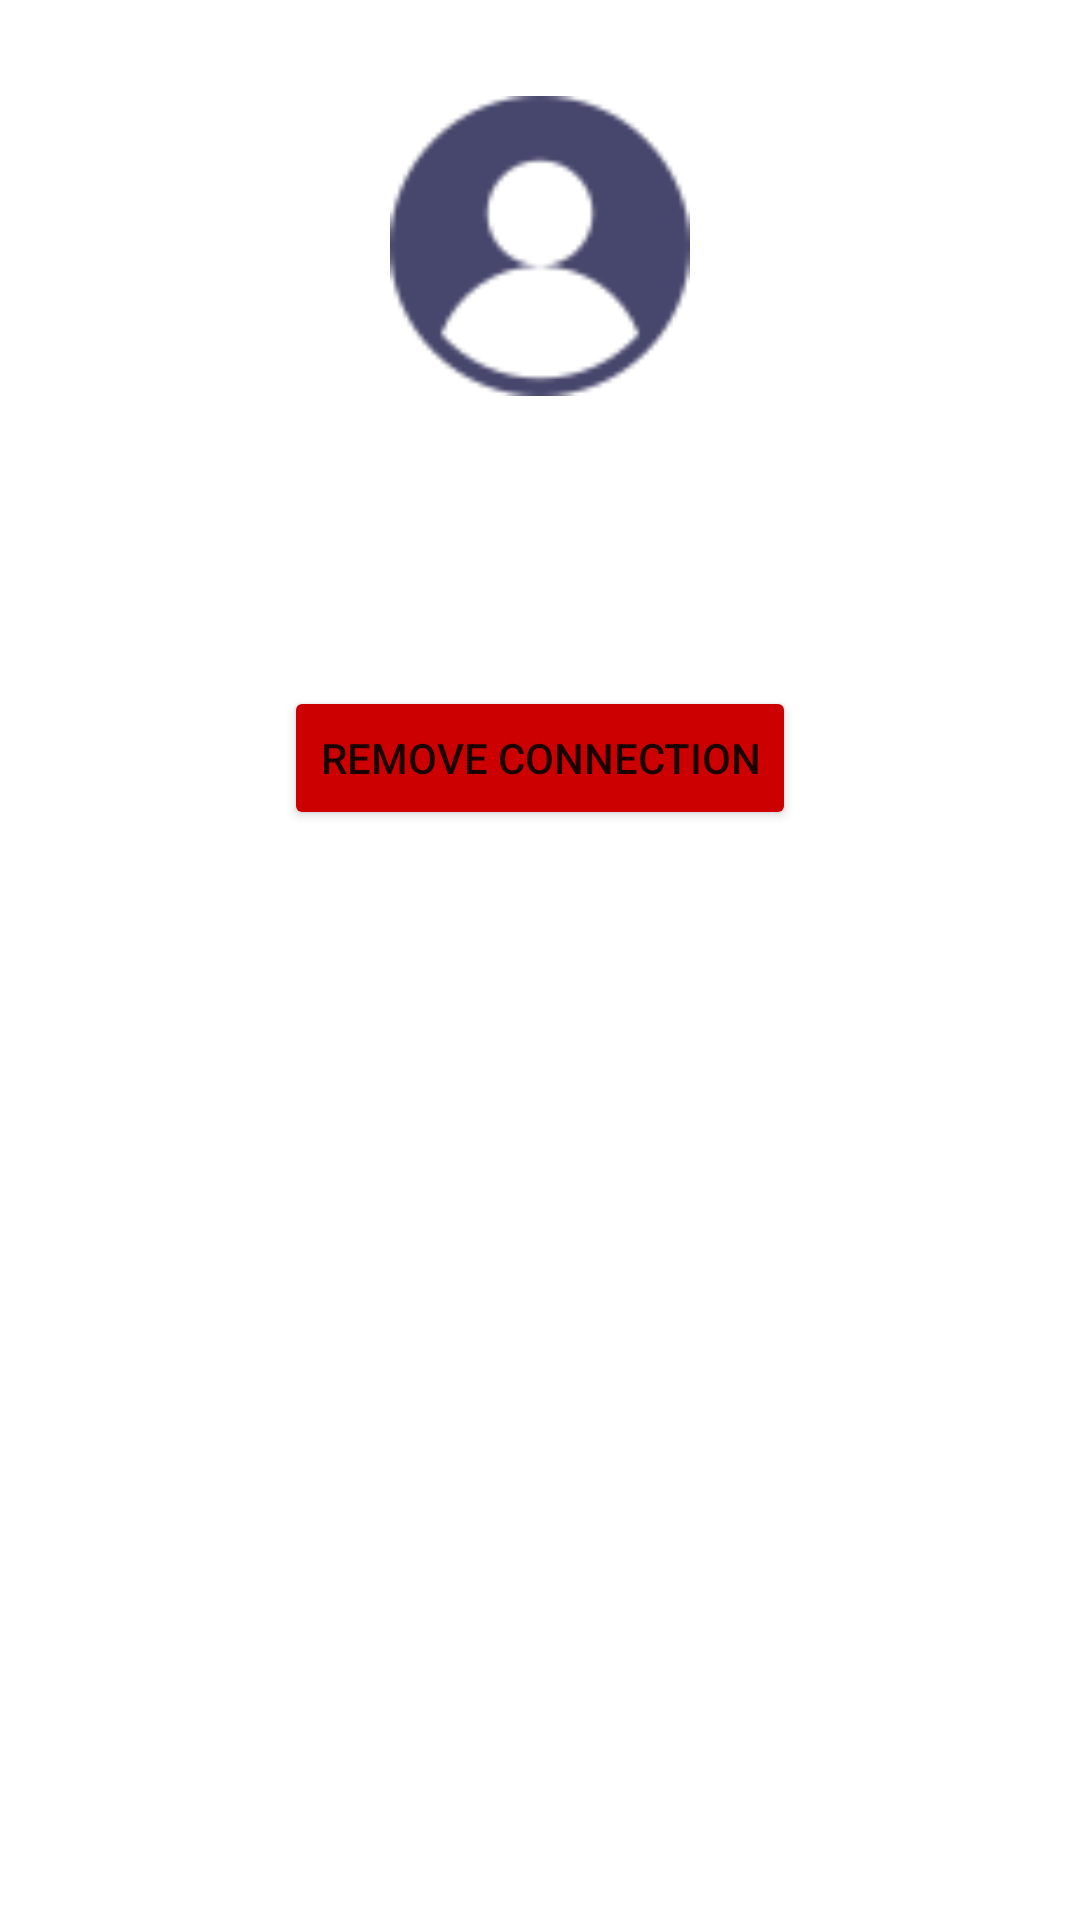

Where icons sit on this 1080px×1920px app screen, as [x1, y1, x2, y2]:
Profile: [390, 96, 690, 396]
